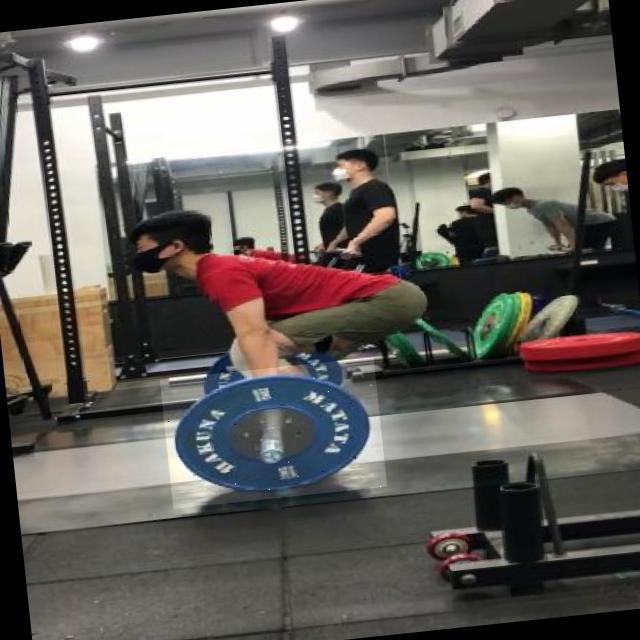barbell: (161, 358, 388, 510)
